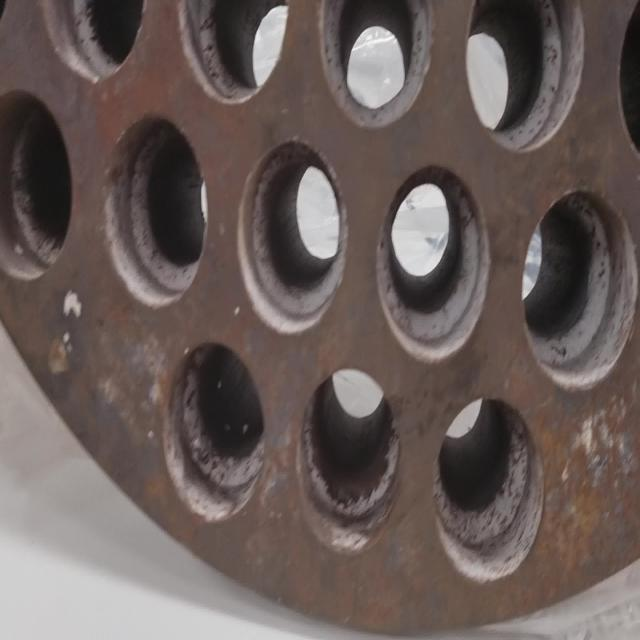Hole: (521, 186, 639, 389), (375, 162, 490, 362), (236, 137, 348, 335), (103, 111, 208, 309), (434, 396, 545, 582), (296, 363, 400, 554), (163, 339, 267, 522), (464, 0, 586, 154), (317, 0, 434, 131), (1, 87, 74, 282), (176, 0, 290, 106)
